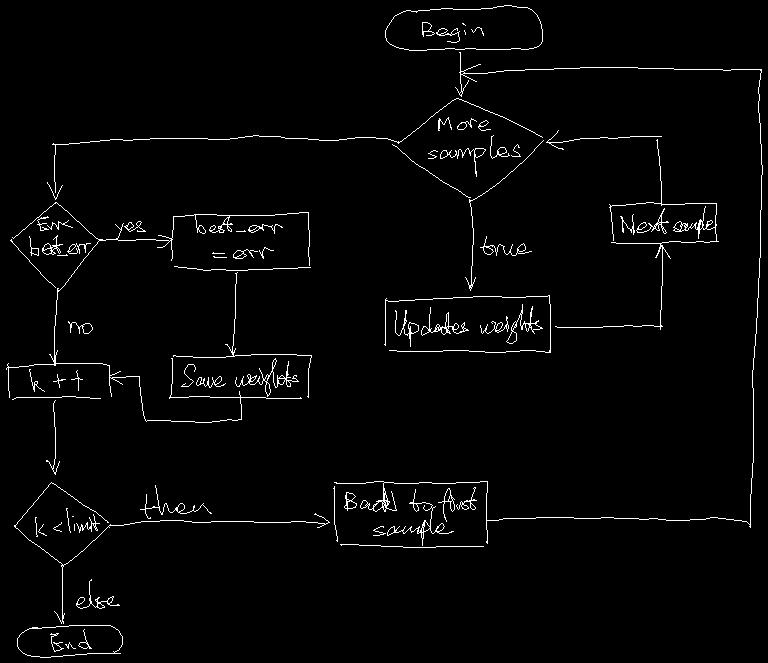arrow: (459, 64, 762, 527), (47, 135, 398, 199), (555, 244, 670, 329), (546, 130, 661, 205), (109, 371, 241, 422), (109, 513, 329, 527), (225, 272, 237, 355), (46, 400, 59, 474), (465, 200, 475, 290), (99, 235, 172, 247), (49, 288, 58, 365), (455, 52, 468, 96), (54, 566, 64, 623)
decision: (392, 98, 543, 201), (10, 202, 100, 291), (14, 482, 109, 566)
process: (333, 481, 487, 547), (384, 295, 550, 352), (171, 212, 310, 270), (169, 354, 311, 398), (609, 202, 718, 243), (6, 363, 111, 399)
terminator: (385, 5, 542, 50), (17, 625, 122, 657)
text: (344, 483, 476, 545), (395, 304, 542, 346), (428, 117, 520, 176), (181, 358, 298, 396), (195, 215, 282, 258), (620, 206, 716, 238), (29, 216, 90, 255), (140, 485, 211, 518), (35, 508, 99, 536), (76, 579, 119, 608), (422, 22, 483, 42), (29, 369, 82, 391), (480, 236, 531, 255), (50, 629, 91, 651), (115, 221, 145, 239), (68, 321, 92, 333)
